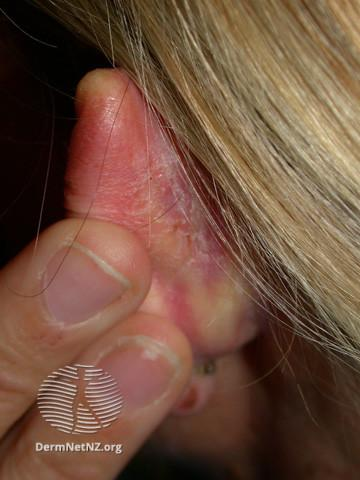Psoriasis: (66, 65, 312, 386)
